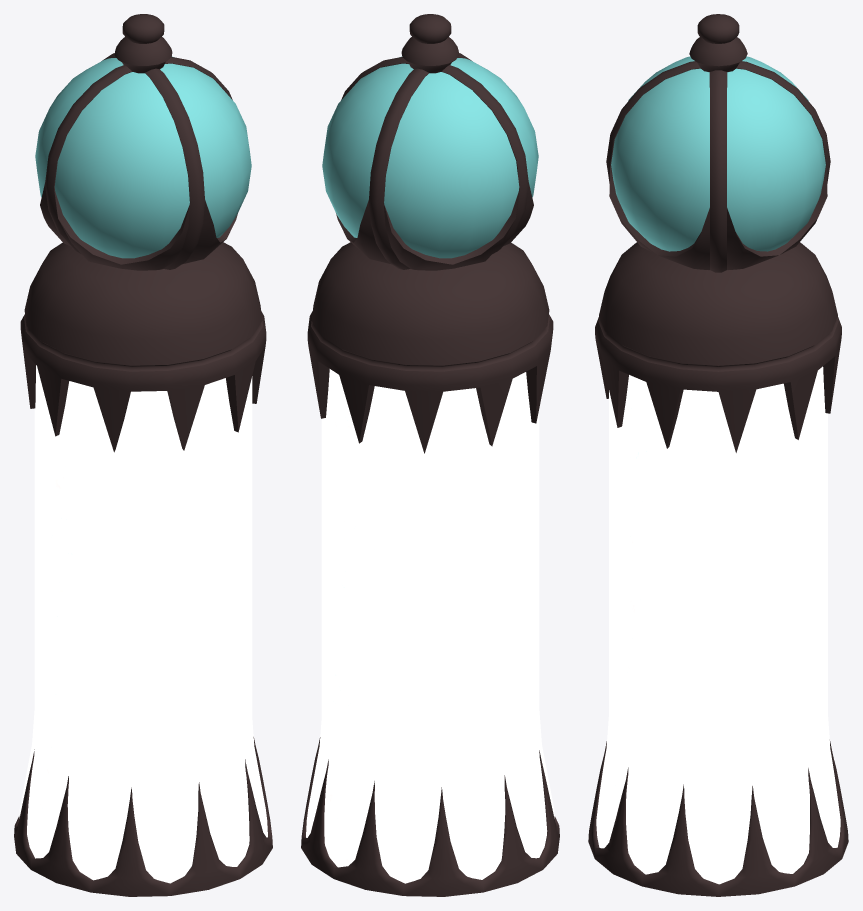
The model's file is 007_crystal_ball_pillar.glb.
The picture shows the model from 3 angles, left to right: view 1: azimuth 30°, elevation 25°; view 2: azimuth 150°, elevation 25°; view 3: azimuth 270°, elevation 25°; orthographic projection.
Parts seen in each view (by area): view 1: pillar, pillar_top, crystal_ball, crystal_ball_deco, pillar_bottom; view 2: pillar, pillar_top, crystal_ball, crystal_ball_deco, pillar_bottom; view 3: pillar, pillar_top, crystal_ball, crystal_ball_deco, pillar_bottom.
Part boxes in pixels (bbox=[...]): pillar: bbox=[19, 365, 267, 883]; pillar_top: bbox=[20, 242, 266, 452]; crystal_ball: bbox=[35, 56, 251, 258]; crystal_ball_deco: bbox=[40, 14, 237, 270]; pillar_bottom: bbox=[14, 737, 272, 896]; pillar: bbox=[306, 369, 554, 883]; pillar_top: bbox=[307, 242, 553, 453]; crystal_ball: bbox=[322, 56, 538, 258]; crystal_ball_deco: bbox=[336, 14, 533, 270]; pillar_bottom: bbox=[301, 737, 559, 896]; pillar: bbox=[596, 366, 840, 884]; pillar_top: bbox=[595, 242, 841, 452]; crystal_ball: bbox=[611, 56, 825, 251]; crystal_ball_deco: bbox=[606, 14, 830, 272]; pillar_bottom: bbox=[588, 741, 848, 896].
Size of the model in its own units: 0.75 by 2.63 by 0.75.
Materials: 3 (1 with a texture image).
